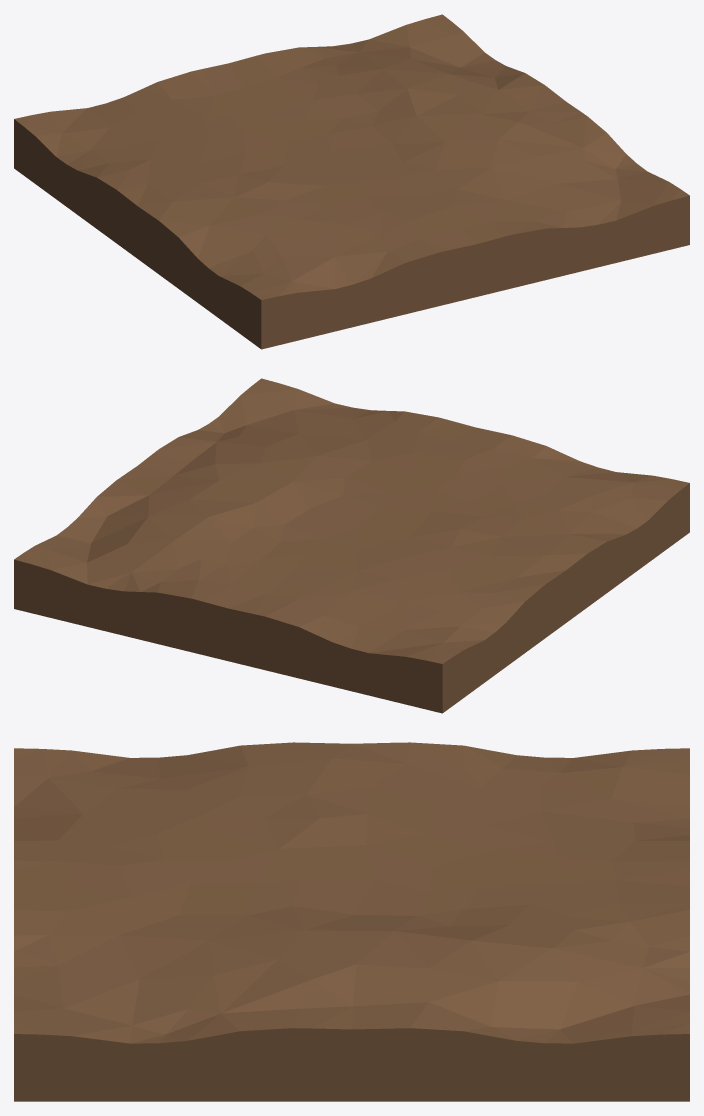
The model's file is Terrian_Dirt_Flat-01.fbx.
3 renders of one model, top to bottom at view 1: azimuth 30°, elevation 25°; view 2: azimuth 150°, elevation 25°; view 3: azimuth 270°, elevation 25°, orthographic. The views are drawn at different scales.
Visible parts, largest first — view 1: Terrian_Dirt_Flat-01; view 2: Terrian_Dirt_Flat-01; view 3: Terrian_Dirt_Flat-01.
Part boxes in pixels (box(x1,y1,x2,y2)): Terrian_Dirt_Flat-01: box(14, 14, 689, 349); Terrian_Dirt_Flat-01: box(14, 378, 689, 713); Terrian_Dirt_Flat-01: box(14, 742, 689, 1101).
Size of the model in its own units: 3600 by 495 by 3600.
Materials: 1 (1 with a texture image).
